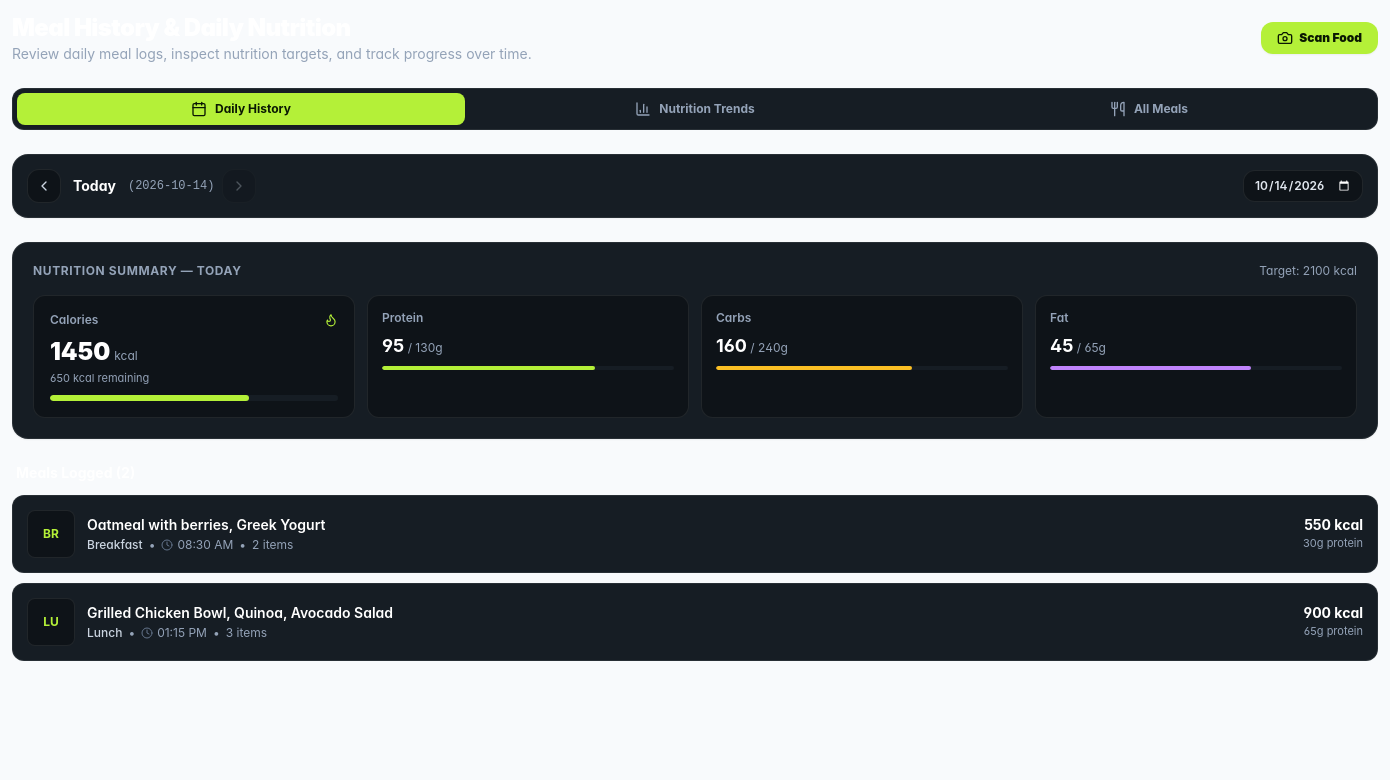
Test: MealHistory Component - Date Navigation, Daily Totals & Historical Trends › 7. Displays average calories, average protein, weight trend, and bar chart when sufficient historical data exists
// Switch to Nutrition Trends tab
Click the button "Nutrition Trends".
click(695, 109)  # box [471, 93, 919, 125]
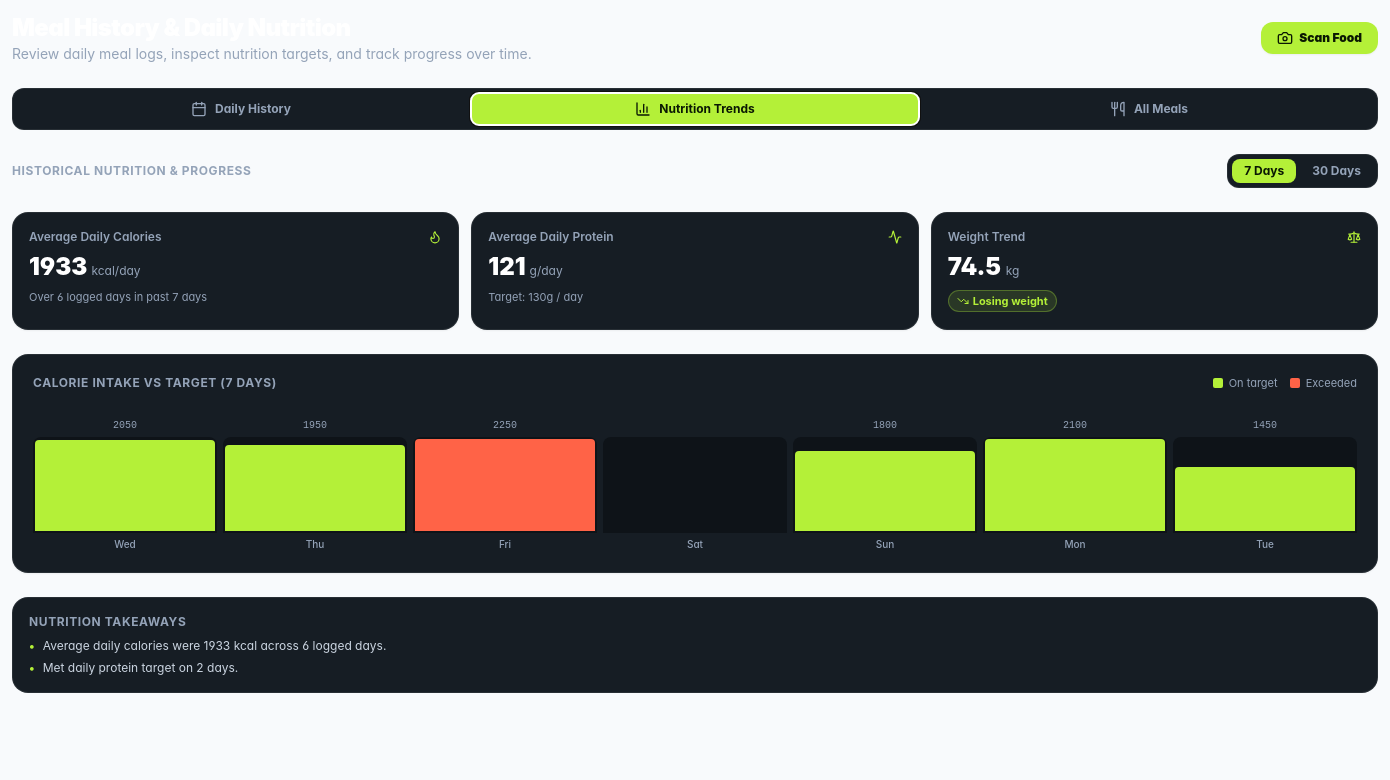
Check: the text "Average Daily Calories" is shown, box [29, 229, 162, 245]
Check: the text "1933" is shown, box [29, 252, 87, 281]
Check: the text "Average Daily Protein" is shown, box [488, 229, 614, 245]
